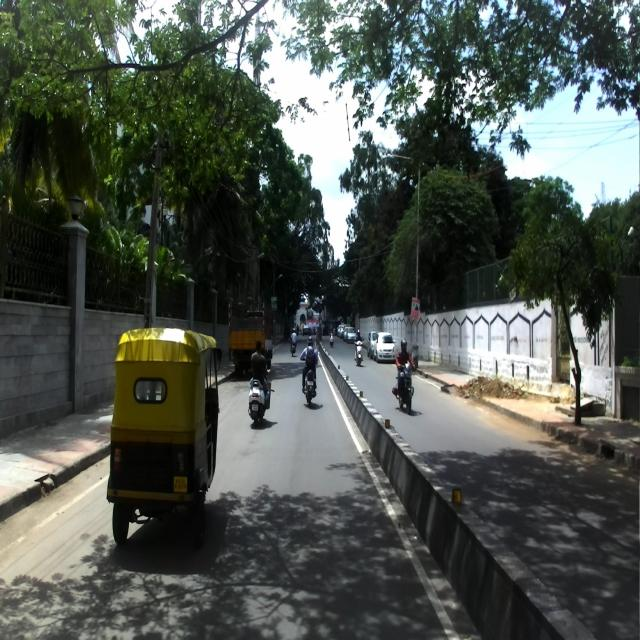autorickshaw: (106, 325, 226, 545)
scooter: (248, 364, 273, 428)
